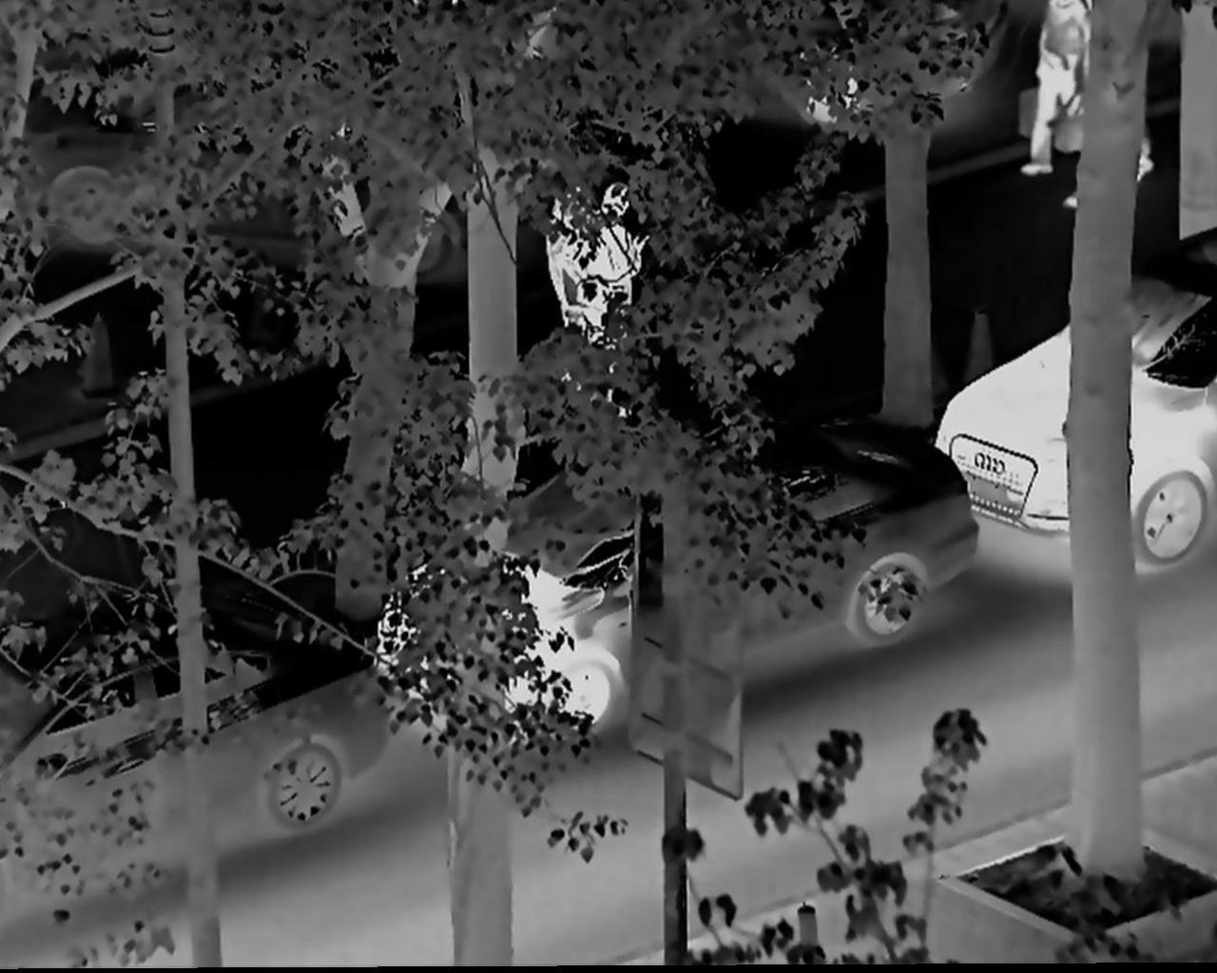person: (579, 161, 651, 355), (1015, 3, 1092, 178), (544, 187, 592, 360)
